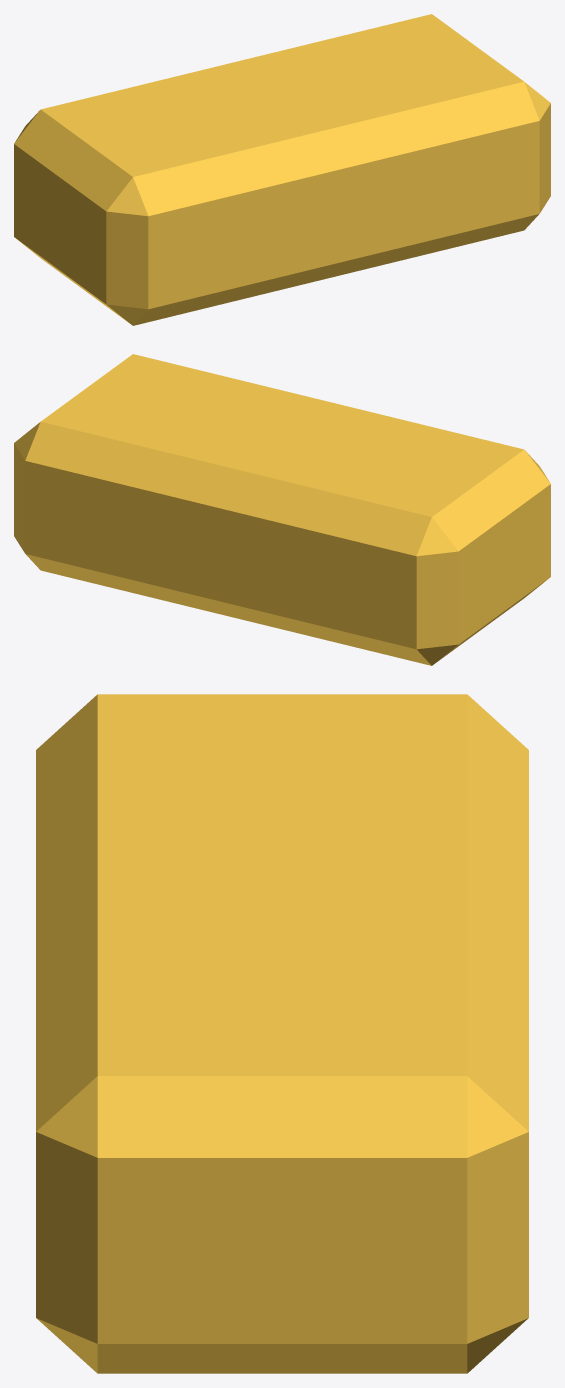
The model's file is SM_Product_MetalBar.fbx.
3 views of the same model, one above another, from view 1: azimuth 30°, elevation 25°; view 2: azimuth 150°, elevation 25°; view 3: azimuth 270°, elevation 25° (orthographic). The views are drawn at different scales.
Visible parts, largest first — view 1: SM_Product_MetalBar; view 2: SM_Product_MetalBar; view 3: SM_Product_MetalBar.
Boxes of the visible parts, left/top/right/bottom form: SM_Product_MetalBar: left=14, top=14, right=550, bottom=325; SM_Product_MetalBar: left=14, top=354, right=550, bottom=665; SM_Product_MetalBar: left=36, top=694, right=528, bottom=1373.
Bounding box in the file's own units: 0.5 × 0.16 × 0.24.
